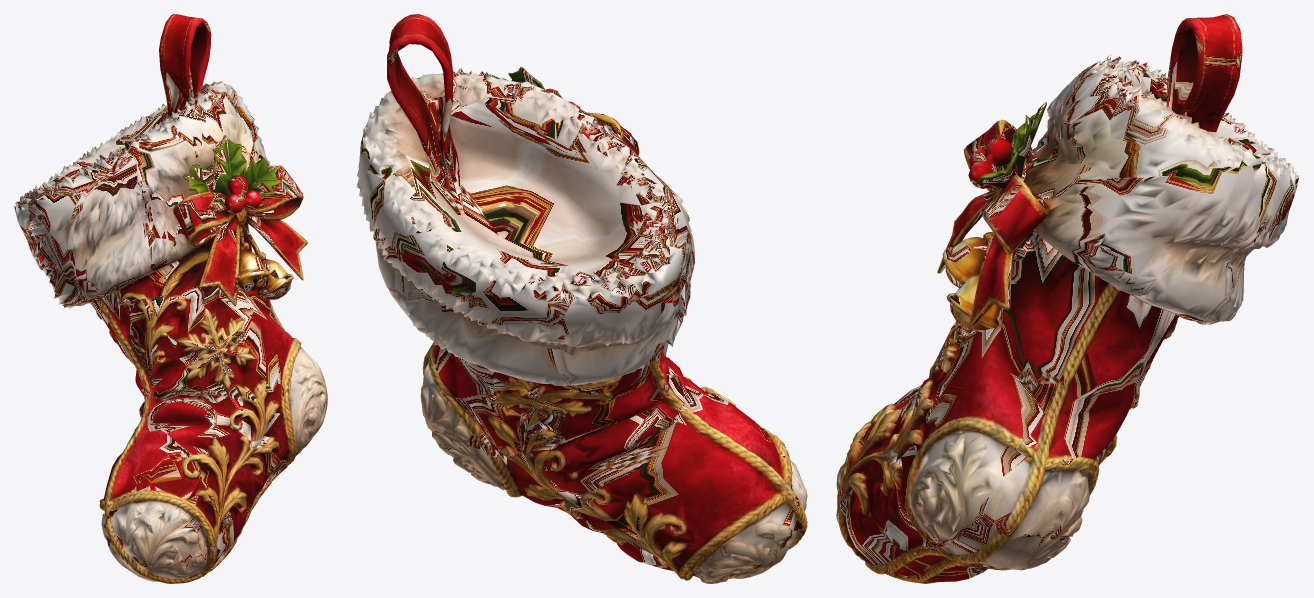
The model's file is socks.glb.
3 views of the same model, side by side, from view 1: azimuth 30°, elevation 25°; view 2: azimuth 150°, elevation 25°; view 3: azimuth 270°, elevation 25° (orthographic). The views are drawn at different scales.
Parts seen in each view (by area): view 1: tripo_node_c0c121c6-c078-4972-8d2d-e234ae37ce3c; view 2: tripo_node_c0c121c6-c078-4972-8d2d-e234ae37ce3c; view 3: tripo_node_c0c121c6-c078-4972-8d2d-e234ae37ce3c.
Boxes of the visible parts, left/top/right/bottom form: tripo_node_c0c121c6-c078-4972-8d2d-e234ae37ce3c: left=14, top=14, right=327, bottom=583; tripo_node_c0c121c6-c078-4972-8d2d-e234ae37ce3c: left=356, top=14, right=807, bottom=583; tripo_node_c0c121c6-c078-4972-8d2d-e234ae37ce3c: left=836, top=14, right=1299, bottom=583.
Bounding box in the file's own units: 0.5476 × 0.9784 × 0.6448.
1 material, 1 textured.
